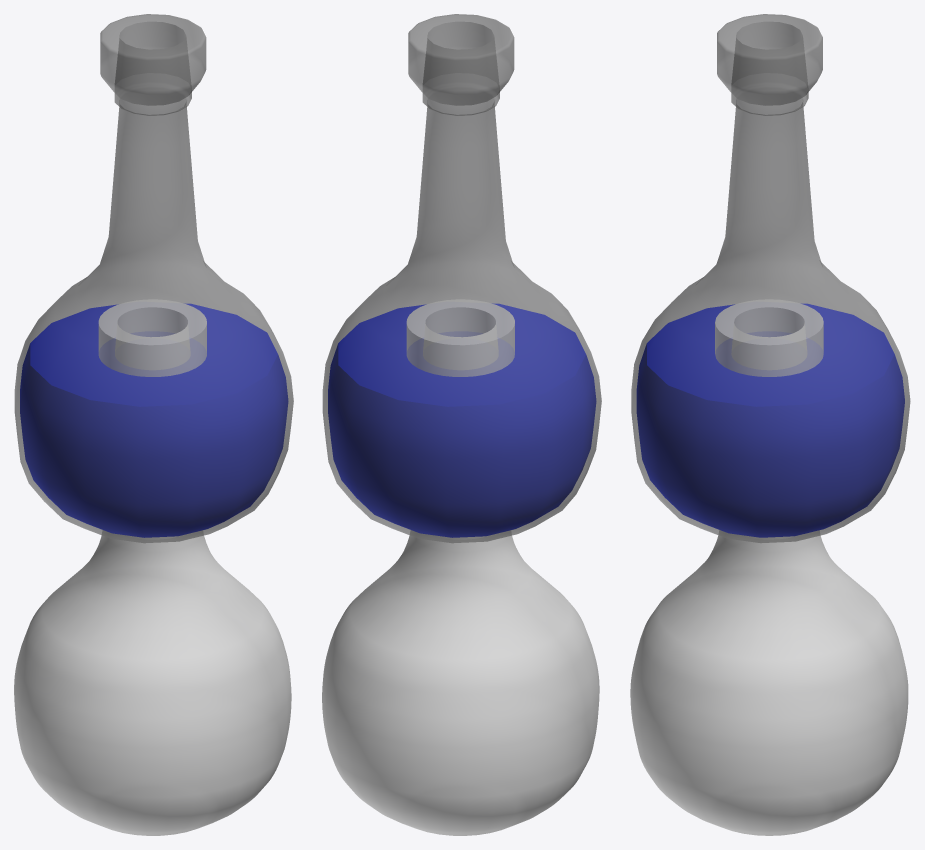
File: lektvar speed boost.fbx
3 views of the same model, side by side, from view 1: azimuth 30°, elevation 25°; view 2: azimuth 150°, elevation 25°; view 3: azimuth 270°, elevation 25° (orthographic).
Parts seen in each view (by area): view 1: Sphere, Circle, Sphere.001; view 2: Sphere, Circle, Sphere.001; view 3: Sphere, Circle, Sphere.001.
Boxes of the visible parts, x1=… form: Sphere: x1=14, y1=14, x2=293, y2=543; Circle: x1=14, y1=299, x2=291, y2=835; Sphere.001: x1=20, y1=303, x2=288, y2=537; Sphere: x1=322, y1=14, x2=601, y2=543; Circle: x1=322, y1=299, x2=599, y2=835; Sphere.001: x1=328, y1=303, x2=596, y2=537; Sphere: x1=631, y1=14, x2=910, y2=543; Circle: x1=630, y1=299, x2=908, y2=835; Sphere.001: x1=636, y1=303, x2=904, y2=537.
Size of the model in its own units: 199 by 606 by 199.
